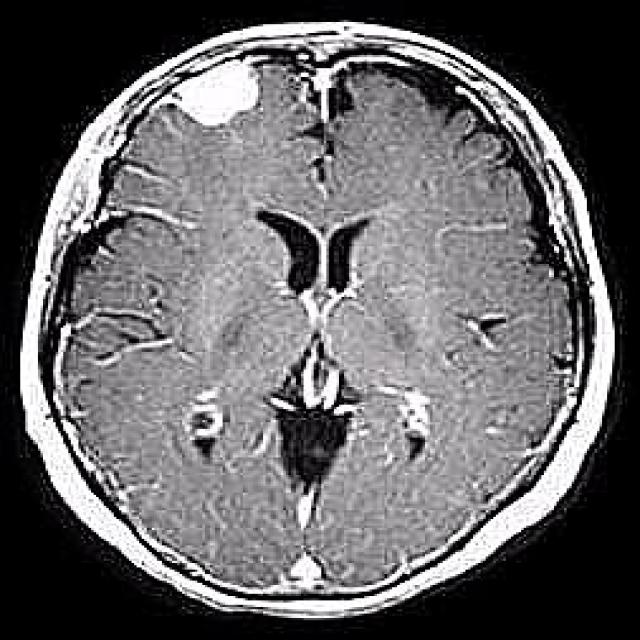Tumor-Cell: (162, 53, 272, 126)
